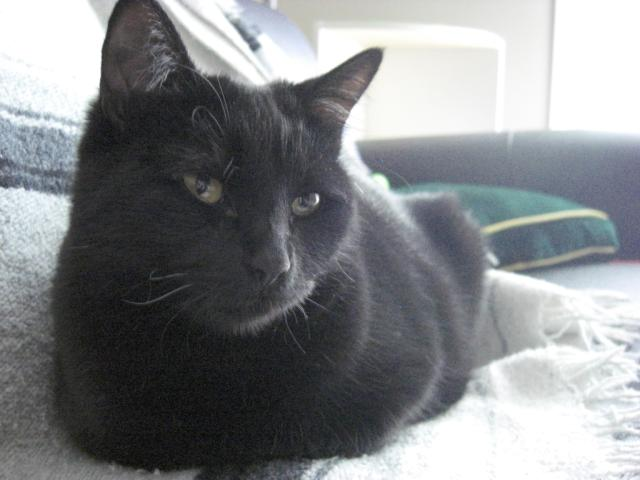Cat: (54, 0, 483, 464)
